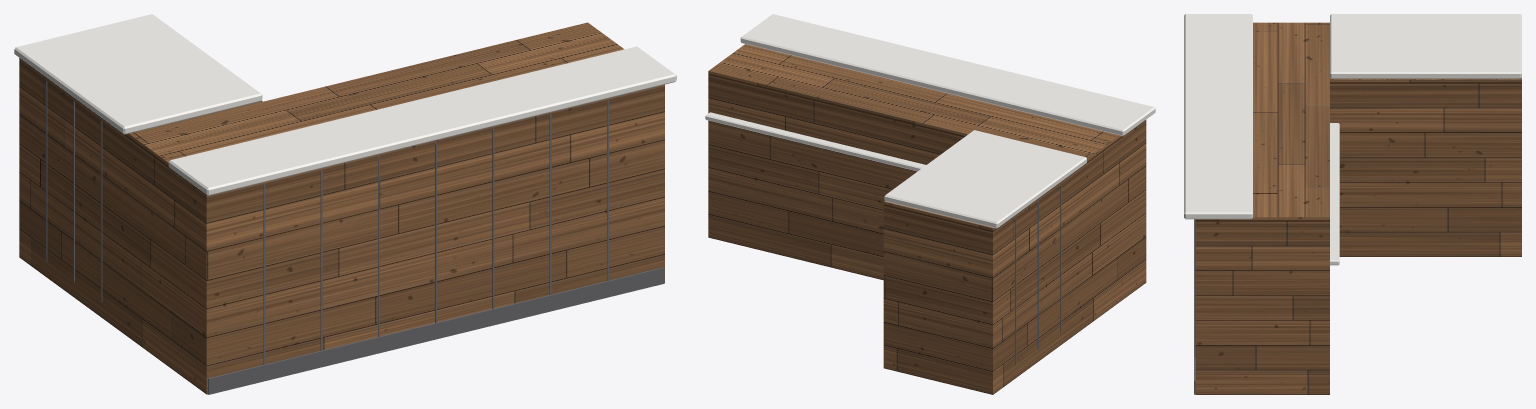
File: counter.glb
3 views of the same model, side by side, from view 1: azimuth 30°, elevation 25°; view 2: azimuth 150°, elevation 25°; view 3: azimuth 270°, elevation 25° (orthographic). The views are drawn at different scales.
Visible parts, largest first — view 1: counter_wood, counter_laminate, counter_dark; view 2: counter_wood, counter_laminate, counter_dark; view 3: counter_wood, counter_laminate, counter_dark.
Boxes of the visible parts, <box> form: counter_wood: <box>19,22,664,394</box>; counter_laminate: <box>14,14,676,195</box>; counter_dark: <box>45,81,664,394</box>; counter_wood: <box>708,44,1146,394</box>; counter_laminate: <box>705,14,1155,228</box>; counter_dark: <box>1015,185,1061,365</box>; counter_wood: <box>1195,22,1521,394</box>; counter_laminate: <box>1184,14,1521,265</box>; counter_dark: <box>1194,219,1195,394</box>.
Bounding box in the file's own units: 2.46 × 1.06 × 1.76.
Materials: 3 (1 with a texture image).
